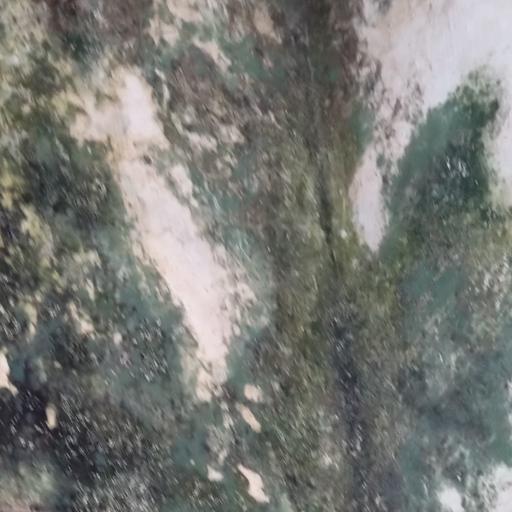algae: (13, 20, 512, 512)
